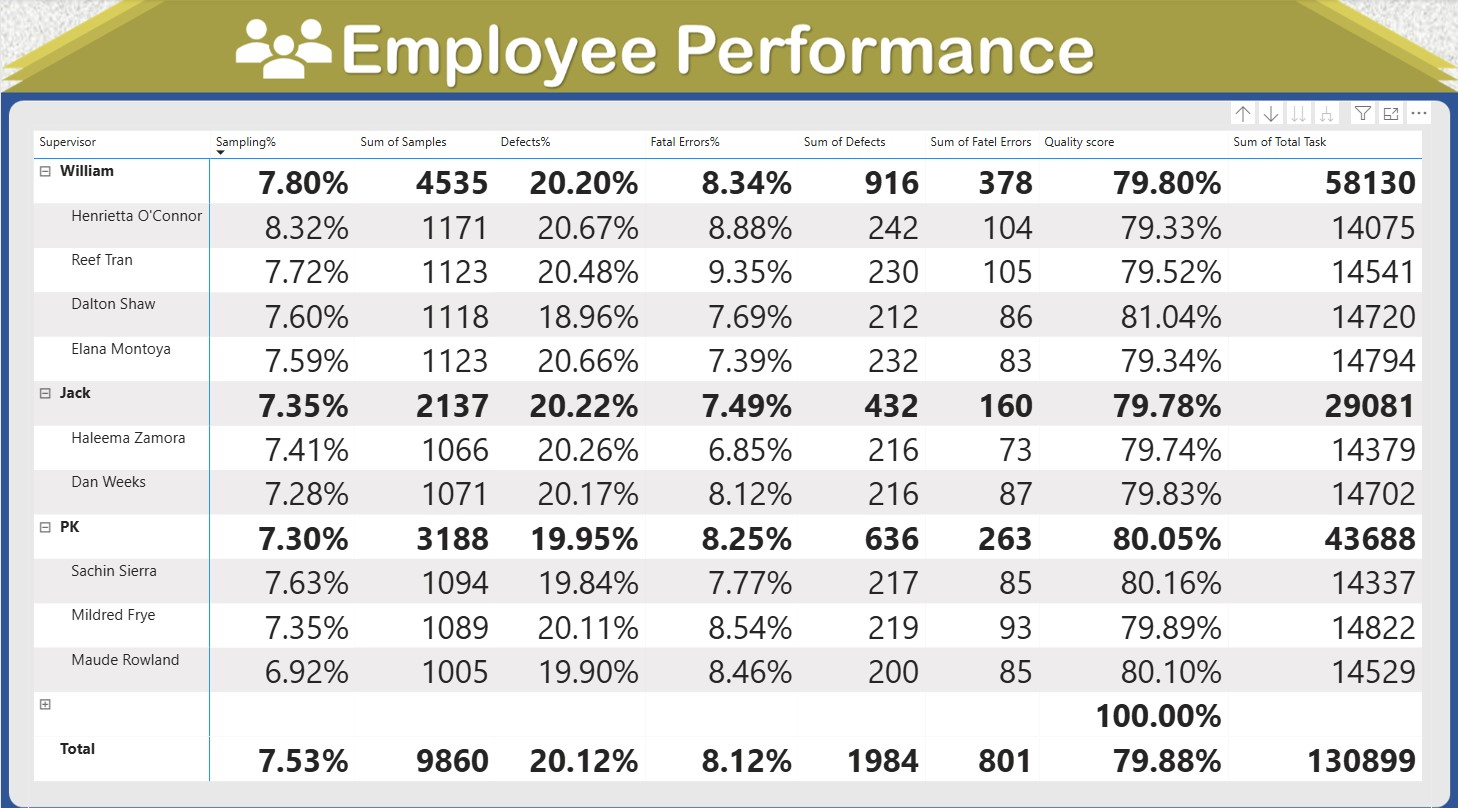

What the dashboard file says about the page in this screenshot:
{"tool":"powerbi","page":{"name":"Page 3","canvas":[1280,720],"ordinal":2},"visuals":[{"type":"pivotTable","fields":{"Rows":["Emp Master.Supervisor","Emp Master.EMP Name"],"Values":["Quality Data.Sampling%","Sum(Quality Data.Samples)","Quality Data.Defects%","Quality Data.Fatal Errors%","Sum(Quality Data.Defects)","Sum(Quality Data.Fatel Errors)","Quality Data.Quality score","Sum(Quality Data.Total Task)"]},"box":[23.7,110.6,1232.8,609.4],"z":0}]}

Visuals, with their boxes in screenshot pixels (x1, y1, x2, y2), scaled from the page's 1280x720 canvas onto the 1458x808 screenshot:
pivotTable - Emp Master.Supervisor x Emp Master.EMP Name: 27 124 1431 807
